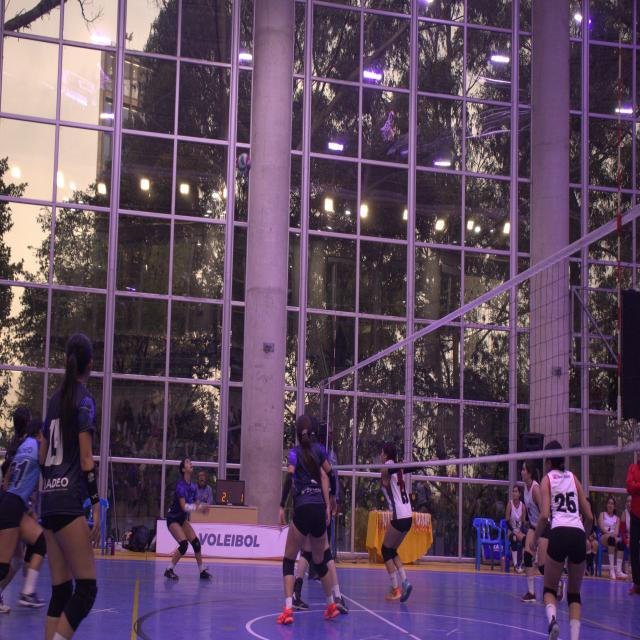volleyball: (237, 152, 252, 174)
